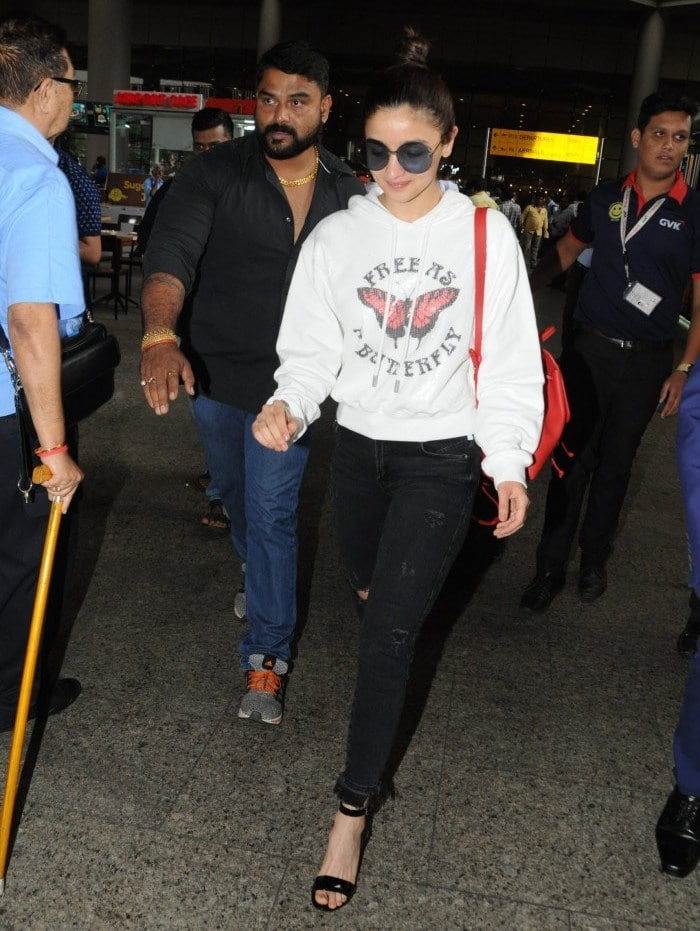jeans: (328, 425, 478, 797), (178, 388, 303, 660)
sunglasses: (359, 139, 435, 173)
